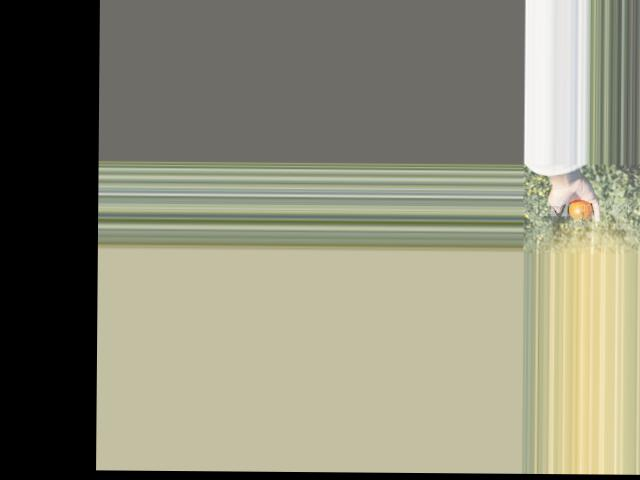tomato: (570, 200, 593, 221)
